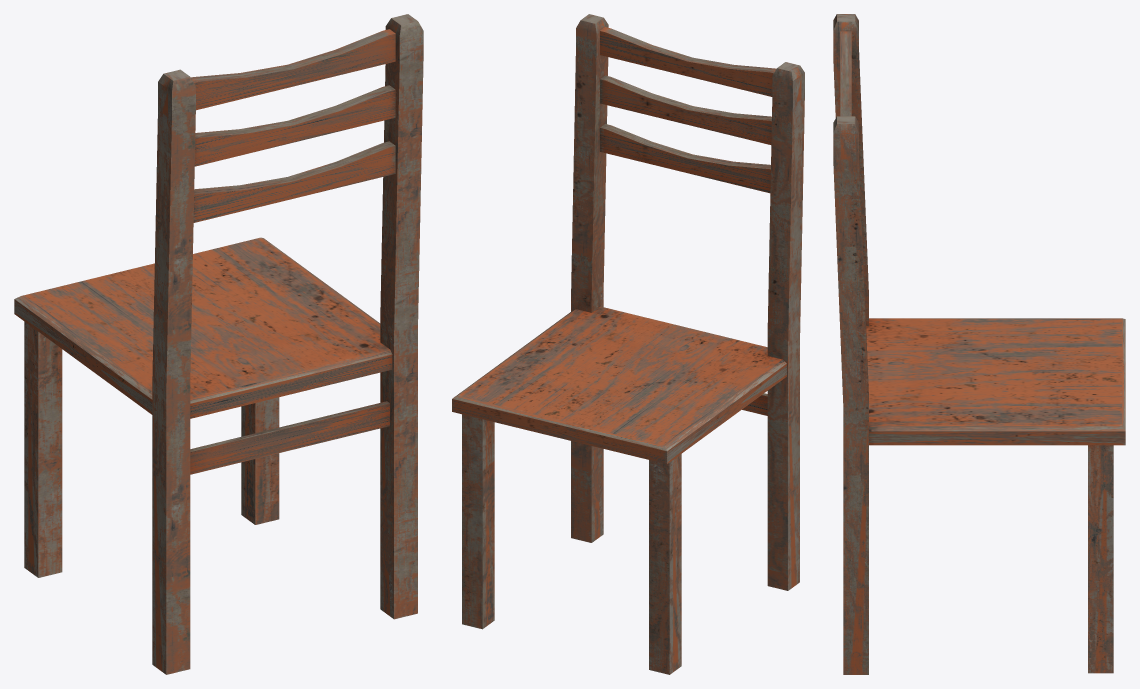
Rendered from chair.gltf.
3 renders of one model, left to right at view 1: azimuth 30°, elevation 25°; view 2: azimuth 150°, elevation 25°; view 3: azimuth 270°, elevation 25°, orthographic. The views are drawn at different scales.
Parts seen in each view (by area): view 1: Object_3; view 2: Object_3; view 3: Object_3.
Boxes of the visible parts, x1,y1,x2,y2 form: Object_3: (14, 14, 423, 674); Object_3: (452, 14, 804, 674); Object_3: (833, 14, 1125, 674).
Size of the model in its own units: 3.75 by 8.51 by 4.1.
1 material, 1 textured.
